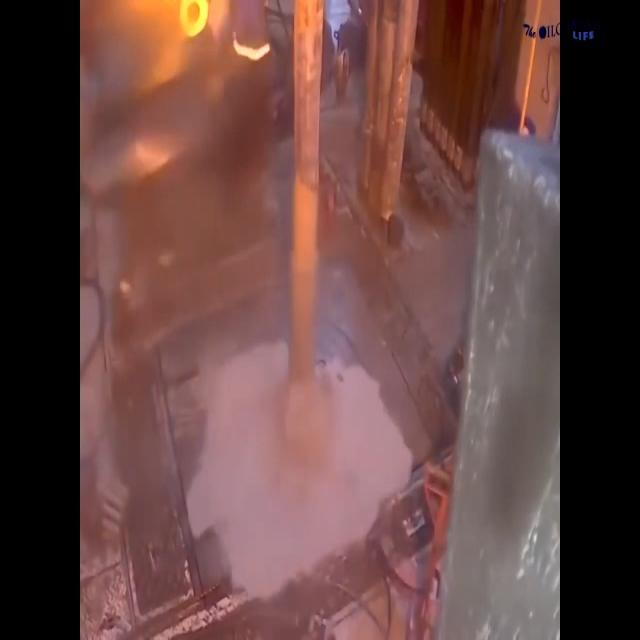spillage: (192, 328, 424, 602)
